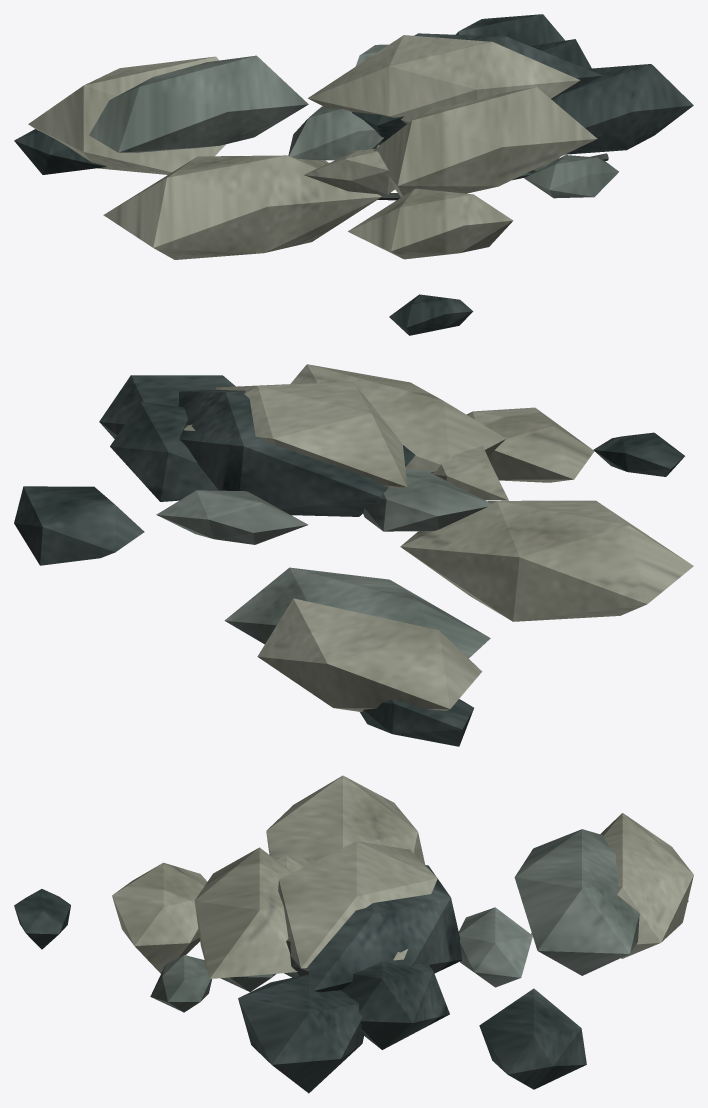
The model's file is 0113_scree_pile_13.glb.
The picture shows the model from 3 angles, top to bottom: view 1: azimuth 30°, elevation 25°; view 2: azimuth 150°, elevation 25°; view 3: azimuth 270°, elevation 25°; orthographic projection. The views are drawn at different scales.
Visible parts, largest first — view 1: stone_light, stone, stone_dark; view 2: stone_light, stone_dark, stone; view 3: stone_light, stone_dark, stone.
Boxes of the visible parts, x1,y1,x2,y2 form: stone_light: [28, 35, 597, 259]; stone: [89, 44, 618, 198]; stone_dark: [14, 14, 693, 335]; stone_light: [183, 364, 693, 711]; stone_dark: [14, 375, 684, 746]; stone: [156, 469, 490, 658]; stone_light: [112, 775, 693, 978]; stone_dark: [14, 865, 688, 1093]; stone: [150, 829, 639, 1012].
Size of the model in its own units: 2.49 by 0.6863 by 2.51.
Materials: 4 (4 with a texture image).
